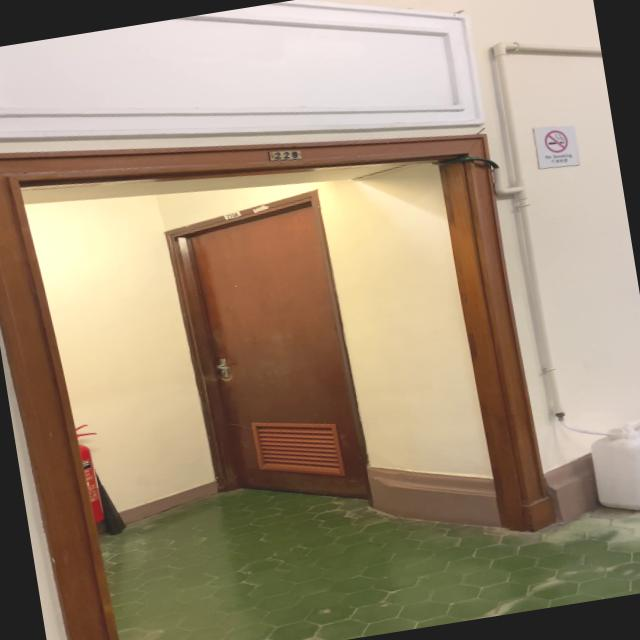room229: (266, 145, 306, 165)
